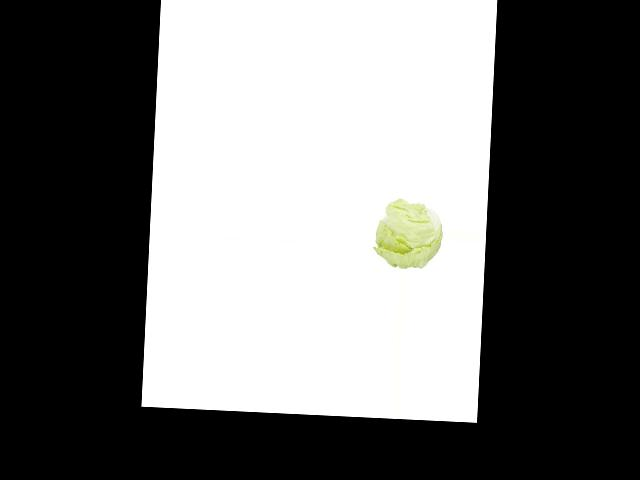lettuce: (373, 200, 446, 270)
